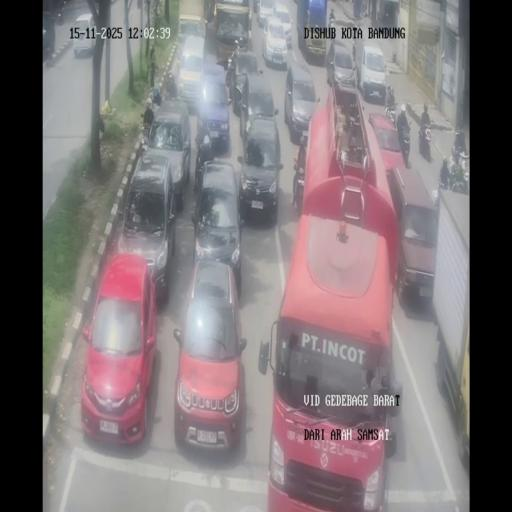3: (262, 72, 400, 507), (432, 191, 470, 470), (387, 164, 438, 307), (212, 1, 252, 65), (298, 0, 333, 63)
car: (80, 251, 159, 444), (172, 258, 247, 452), (190, 160, 243, 285), (144, 100, 192, 203), (239, 114, 283, 222), (196, 67, 232, 151), (284, 58, 320, 142), (367, 112, 406, 176), (227, 48, 262, 116), (176, 35, 205, 111), (356, 42, 386, 103), (326, 40, 356, 100), (72, 14, 97, 58), (273, 2, 293, 47), (42, 13, 55, 60), (257, 0, 275, 27)
truck: (193, 140, 212, 195), (450, 147, 469, 180), (418, 122, 432, 161), (138, 120, 152, 157), (400, 124, 411, 165), (162, 74, 178, 102), (385, 96, 397, 124), (450, 176, 468, 194), (96, 112, 105, 141), (437, 173, 449, 191), (361, 0, 368, 17), (329, 7, 335, 26), (56, 8, 63, 24), (352, 38, 356, 62)
